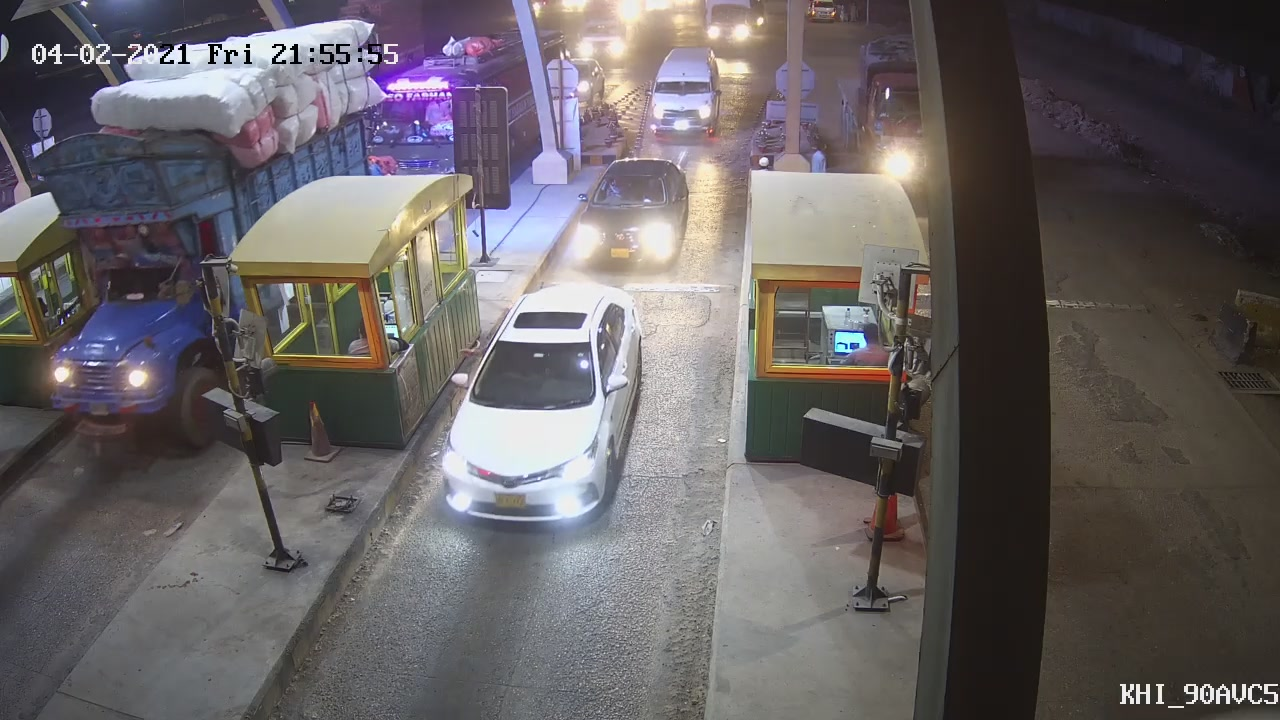F1: (430, 280, 643, 528), (570, 156, 694, 268)
